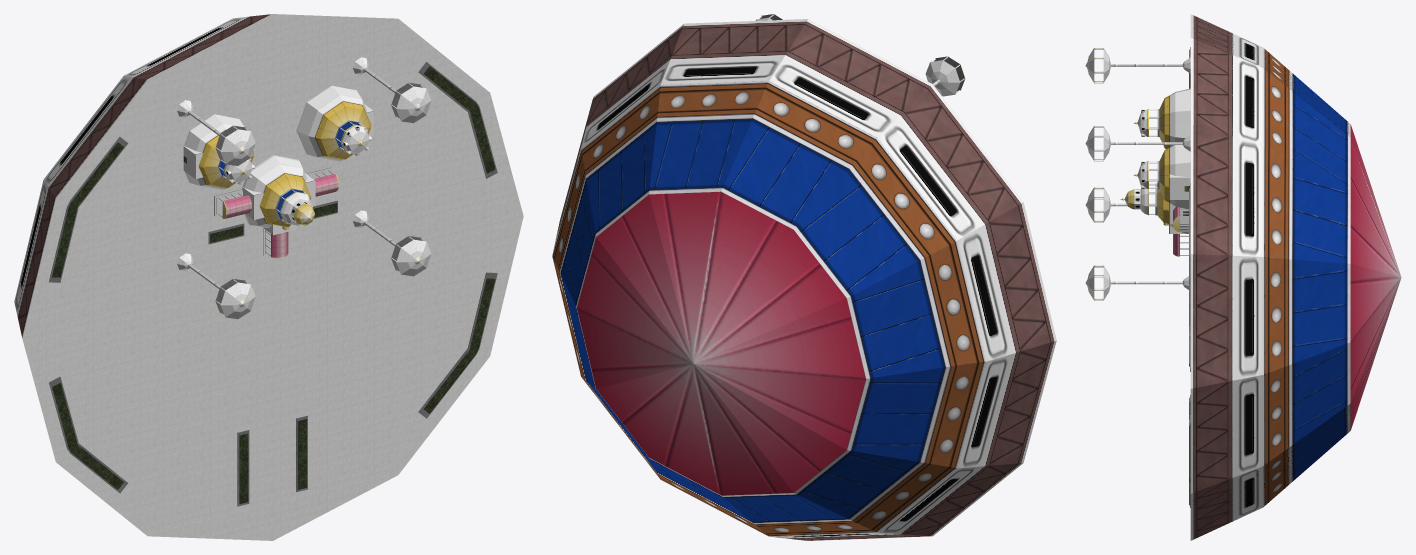
The model's file is kami.FBX.
3 views of the same model, side by side, from view 1: azimuth 30°, elevation 25°; view 2: azimuth 150°, elevation 25°; view 3: azimuth 270°, elevation 25° (orthographic). The views are drawn at different scales.
Visible parts, largest first — view 1: BSP_Object_model_0, BSP_Object_model_28, BSP_Object_model_26, BSP_Object_model_27, BSP_Object_model_29, BSP_Object_model_35, BSP_Object_model_6, BSP_Object_model_22, BSP_Object_model_25, BSP_Object_model_3, BSP_Object_model_15, BSP_Object_model_21 (+3 smaller); view 2: BSP_Object_model_0, BSP_Object_model_20; view 3: BSP_Object_model_0, BSP_Object_model_35, BSP_Object_model_22.
Boxes of the visible parts, x1,y1,x2,y2 form: BSP_Object_model_0: (14, 14, 523, 540); BSP_Object_model_28: (49, 137, 127, 282); BSP_Object_model_26: (418, 272, 497, 418); BSP_Object_model_27: (49, 376, 127, 493); BSP_Object_model_29: (418, 62, 497, 178); BSP_Object_model_35: (316, 102, 371, 159); BSP_Object_model_6: (259, 173, 311, 226); BSP_Object_model_22: (198, 135, 253, 188); BSP_Object_model_25: (237, 430, 249, 506); BSP_Object_model_3: (396, 239, 431, 276); BSP_Object_model_15: (396, 86, 431, 123); BSP_Object_model_21: (220, 129, 255, 165); BSP_Object_model_0: (552, 14, 1056, 540); BSP_Object_model_20: (925, 60, 960, 96); BSP_Object_model_0: (1085, 14, 1401, 540); BSP_Object_model_35: (1157, 148, 1168, 202); BSP_Object_model_22: (1157, 96, 1168, 148).
Size of the model in its own units: 2740 by 2752 by 1643.
